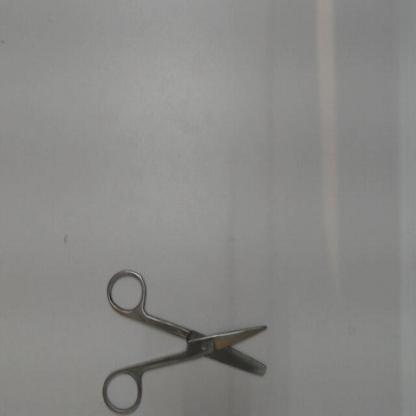Dressing Scissors: (96, 260, 284, 416)
